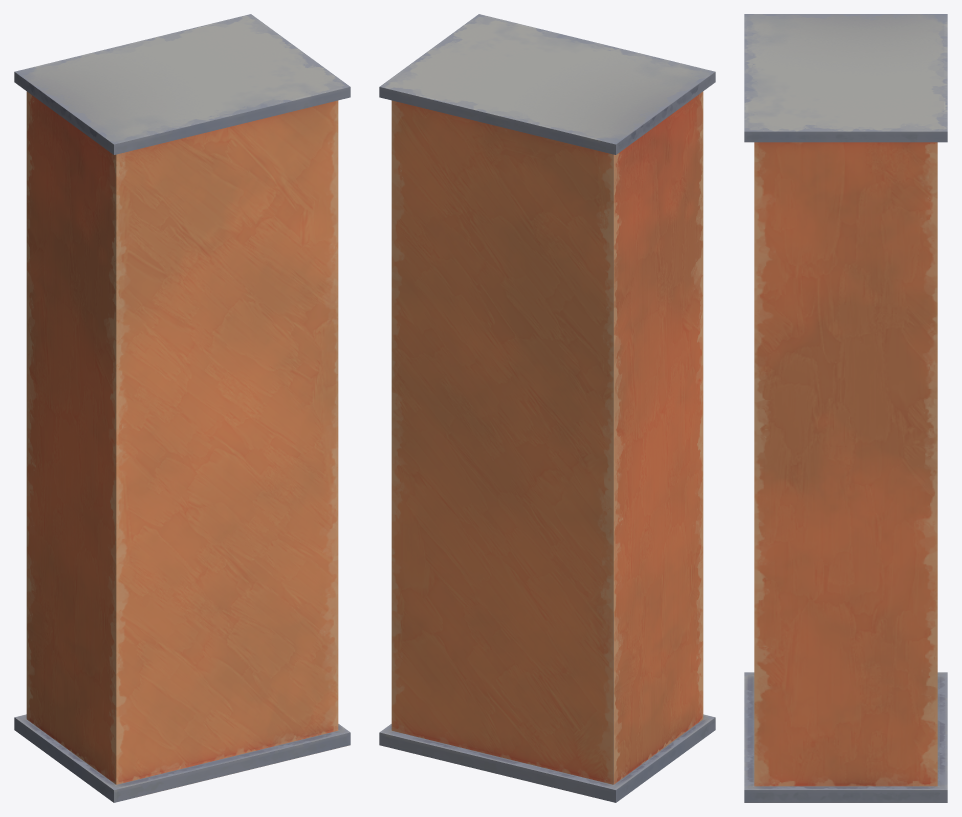
The model's file is DutoAr.fbx.
The picture shows the model from 3 angles, left to right: view 1: azimuth 30°, elevation 25°; view 2: azimuth 150°, elevation 25°; view 3: azimuth 270°, elevation 25°; orthographic projection.
Visible parts, largest first — view 1: DutoAr; view 2: DutoAr; view 3: DutoAr.
Part boxes in pixels (bbox=[...]): DutoAr: bbox=[14, 14, 350, 802]; DutoAr: bbox=[379, 14, 715, 802]; DutoAr: bbox=[744, 14, 947, 802].
Size of the model in its own units: 0.5641 by 1.5 by 0.4111.
